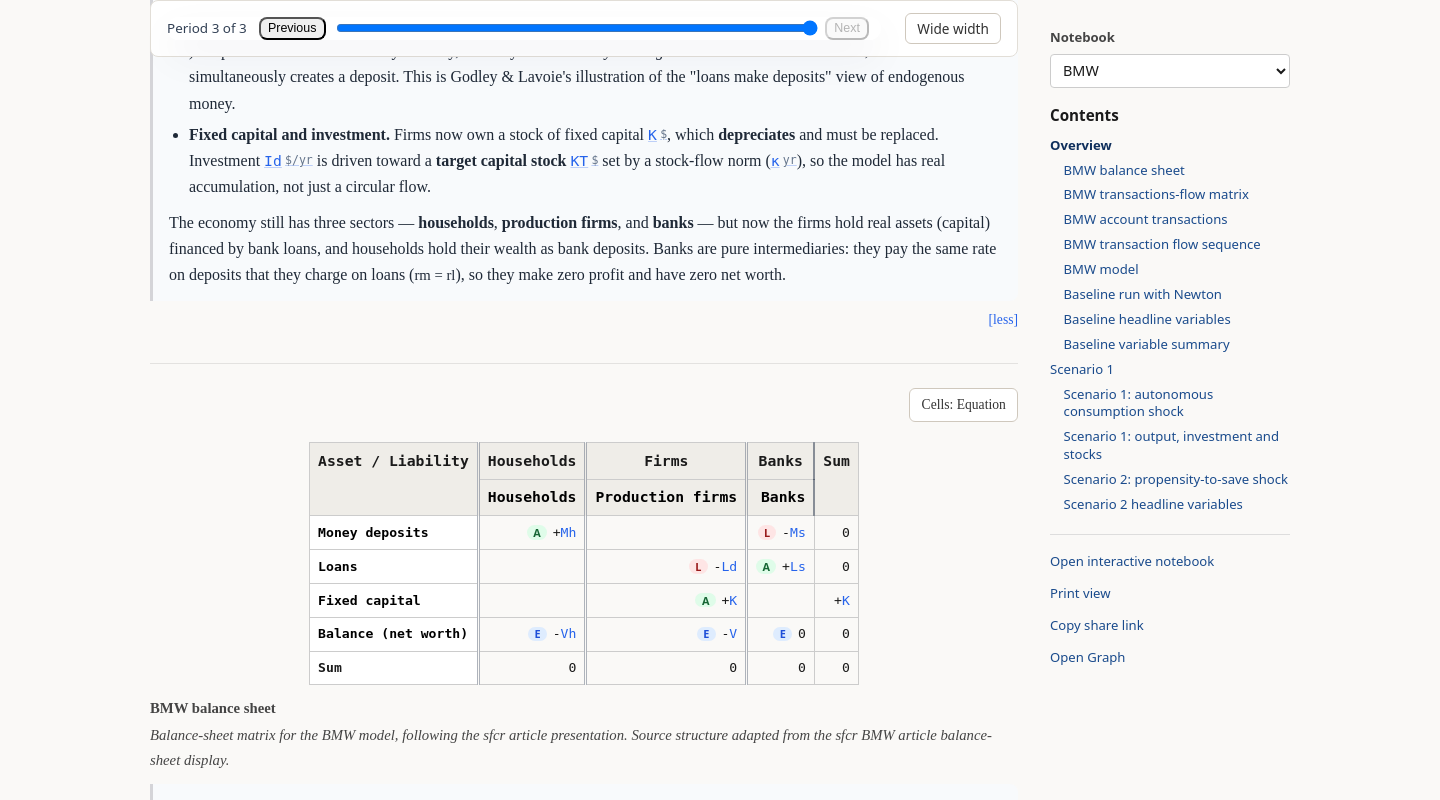
Test case: PublicationNotebookApp matrix graph popup › switches matrix entries to evaluated values when the toggle is used
(page scrolled)
Click the button with aria-label "Matrix cell display:" at [964, 405], box [909,388,1018,422]
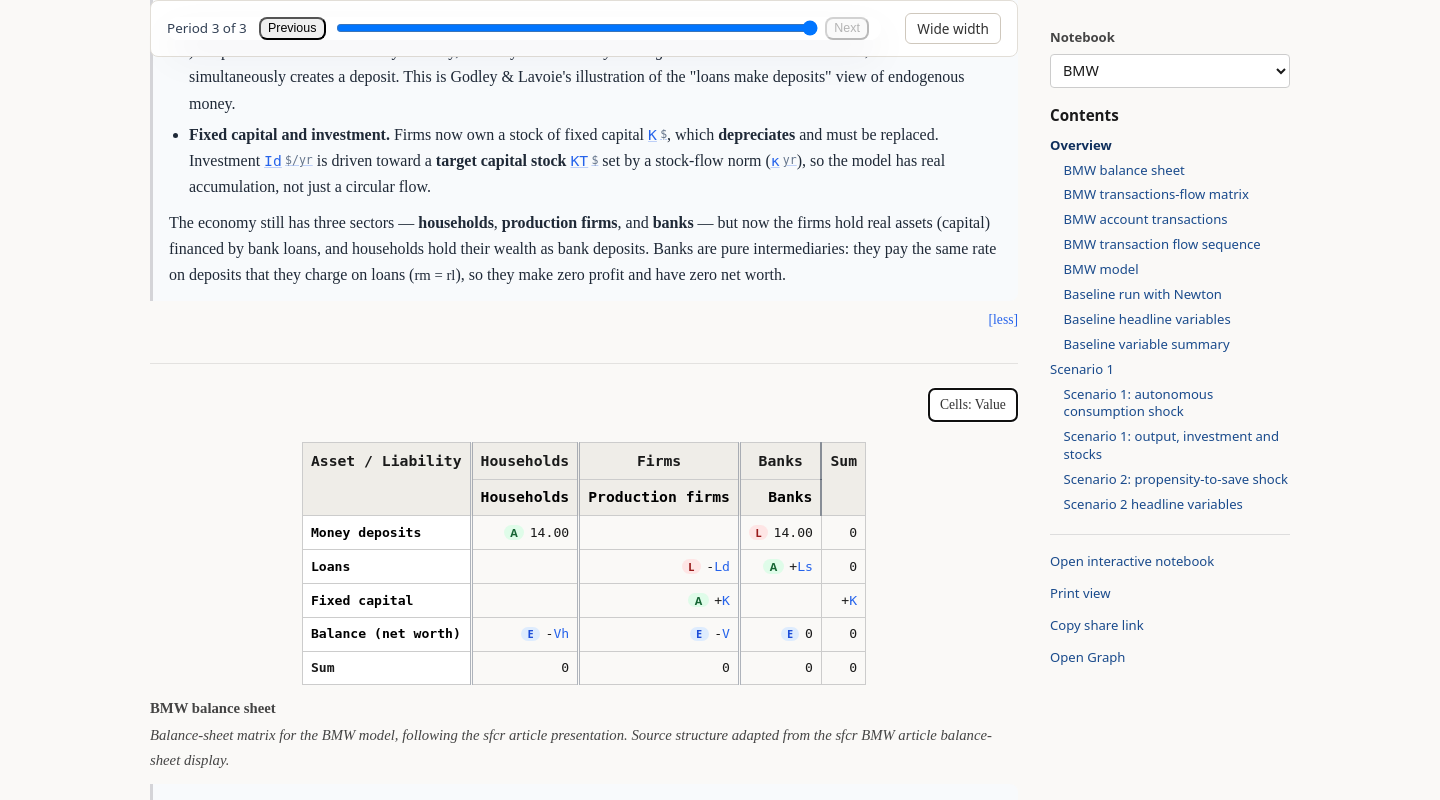
Now the 1st element showing "14.00" is shown, box [530,522,569,544]
